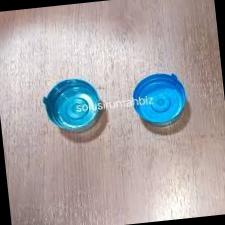Plastik: (43, 79, 104, 132), (132, 72, 184, 125)
